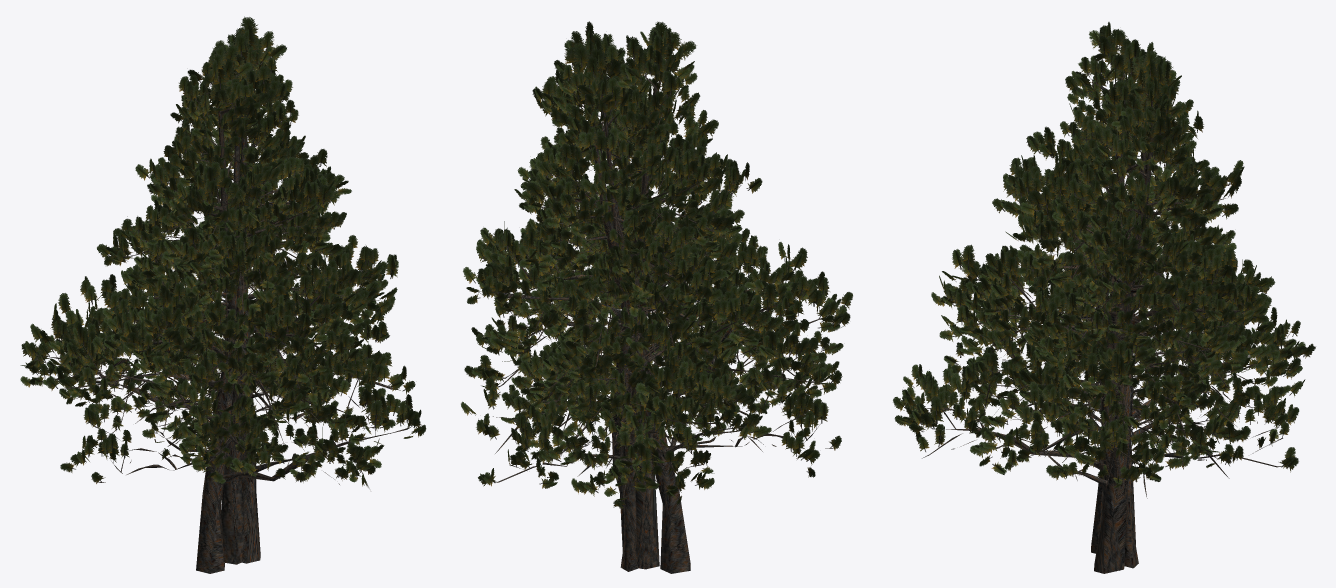
File: forest_trees.glb
3 renders of one model, left to right at view 1: azimuth 30°, elevation 25°; view 2: azimuth 150°, elevation 25°; view 3: azimuth 270°, elevation 25°, orthographic. The views are drawn at different scales.
Visible parts, largest first — view 1: tB_leaves, tA_leaves, tC_leaves, sA_leaves, tB_bark, sB_leaves, tC_bark, tA_bark, sA_bark, sB_bark; view 2: tB_leaves, tA_leaves, tC_leaves, sA_leaves, sB_leaves, tB_bark, tC_bark, tA_bark, sB_bark, sA_bark; view 3: tA_leaves, tB_leaves, tC_leaves, sA_leaves, sB_leaves, tA_bark, tB_bark, tC_bark, sB_bark, sA_bark.
Boxes of the visible parts, box(x1,y1,x2,y2) form: tB_leaves: box(20, 16, 426, 486); tA_leaves: box(55, 40, 415, 482); tC_leaves: box(42, 32, 391, 483); sA_leaves: box(128, 175, 355, 464); tB_bark: box(32, 61, 412, 573); sB_leaves: box(147, 199, 338, 463); tC_bark: box(92, 72, 350, 564); tA_bark: box(98, 91, 404, 563); sA_bark: box(156, 236, 337, 457); sB_bark: box(148, 263, 319, 457); tB_leaves: box(501, 21, 852, 504); tA_leaves: box(463, 21, 805, 492); tC_leaves: box(461, 38, 841, 509); sA_leaves: box(511, 166, 762, 464); sB_leaves: box(520, 186, 729, 469); tB_bark: box(532, 81, 838, 573); tC_bark: box(484, 101, 833, 569); tA_bark: box(493, 60, 793, 551); sB_bark: box(536, 235, 700, 571); sA_bark: box(526, 222, 737, 481); tA_leaves: box(905, 22, 1302, 492); tB_leaves: box(893, 42, 1315, 474); tC_leaves: box(939, 55, 1305, 477); sA_leaves: box(1001, 182, 1237, 480); sB_leaves: box(1015, 202, 1250, 479); tA_bark: box(950, 70, 1279, 573); tB_bark: box(907, 73, 1266, 553); tC_bark: box(959, 83, 1283, 537); sB_bark: box(1046, 263, 1237, 568); sA_bark: box(1009, 213, 1227, 570).
Size of the model in its own units: 1.62 by 2.27 by 1.65.
Materials: 10 (10 with a texture image).
